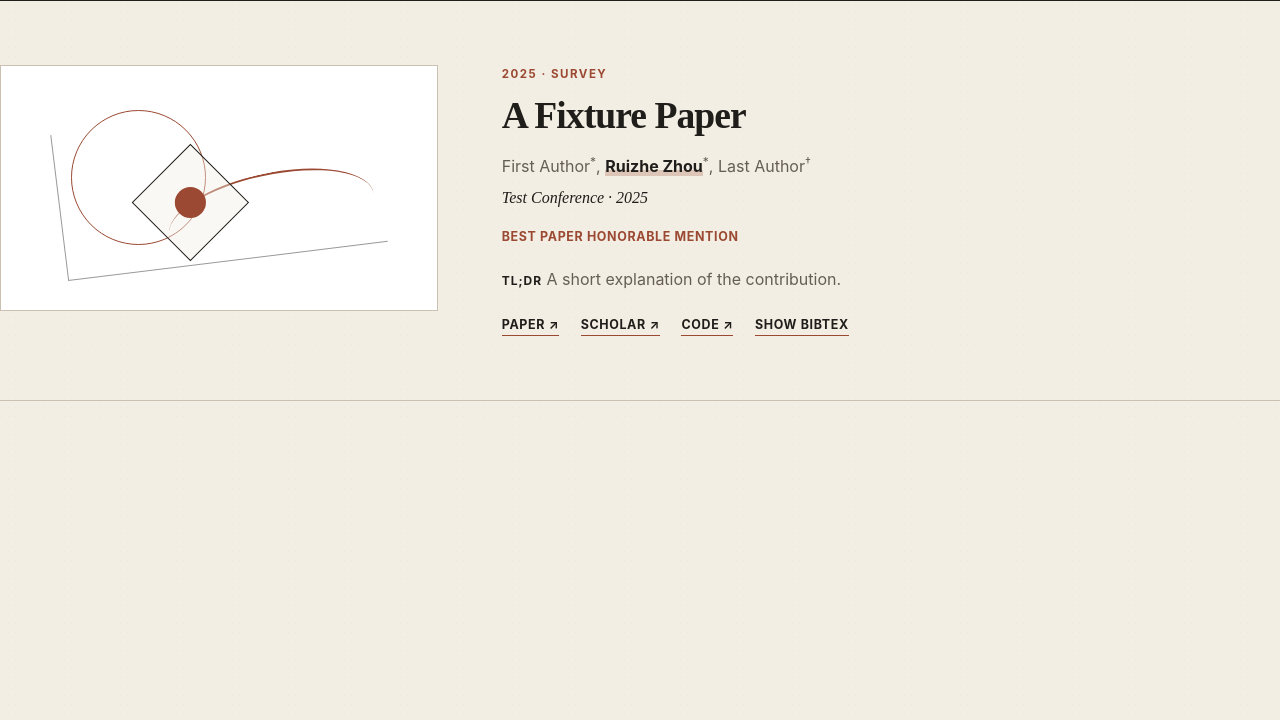
Test case: publication archive › reports clipboard failure without crashing
Click the button "Show BibTeX" at (802, 326), box top-left (755, 315), bottom-right (849, 336)
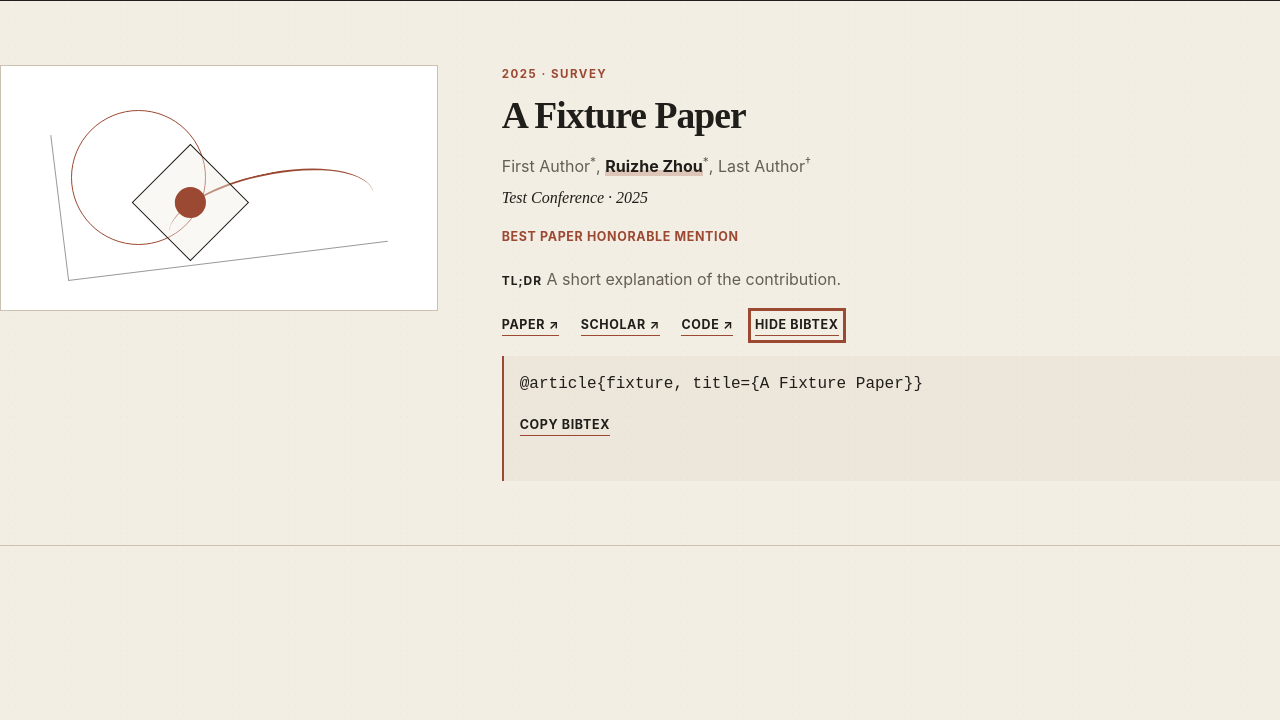
Click the button "Copy BibTeX" at (565, 425), box top-left (520, 415), bottom-right (610, 436)
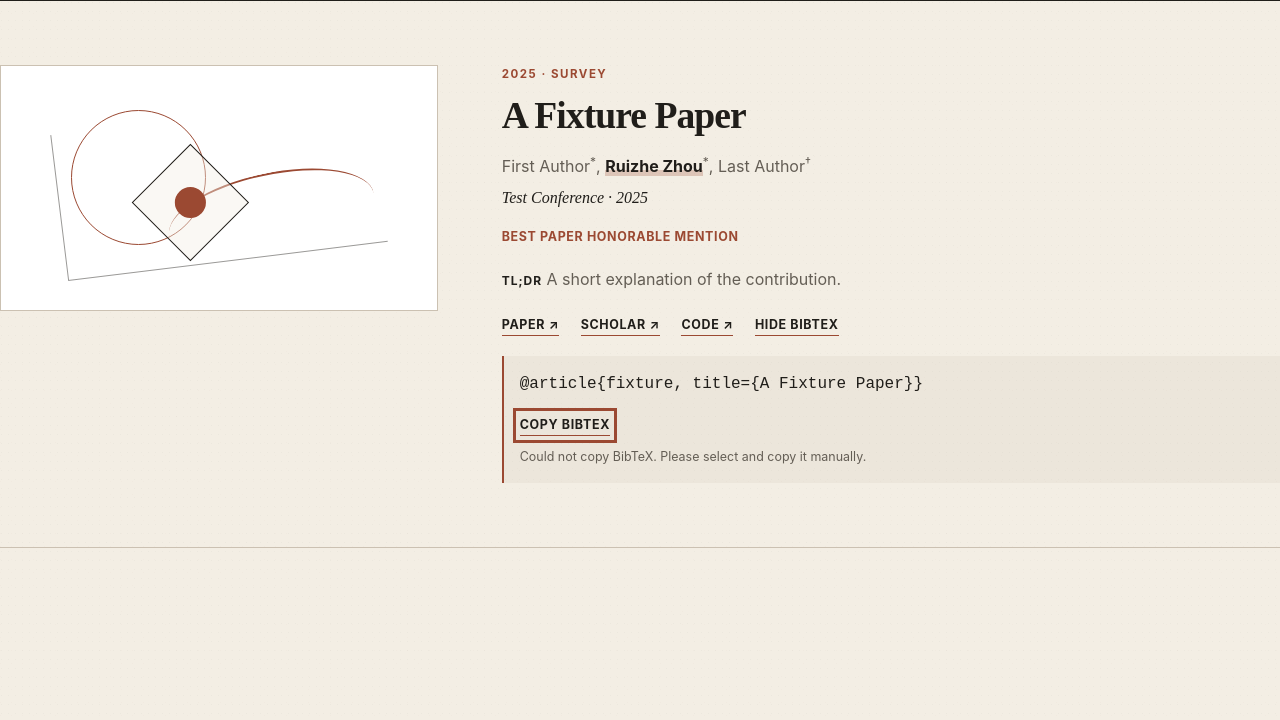
Check: the message reads "Could not copy BibTeX. Please select and copy it manually.", box top-left (520, 449), bottom-right (866, 464)
